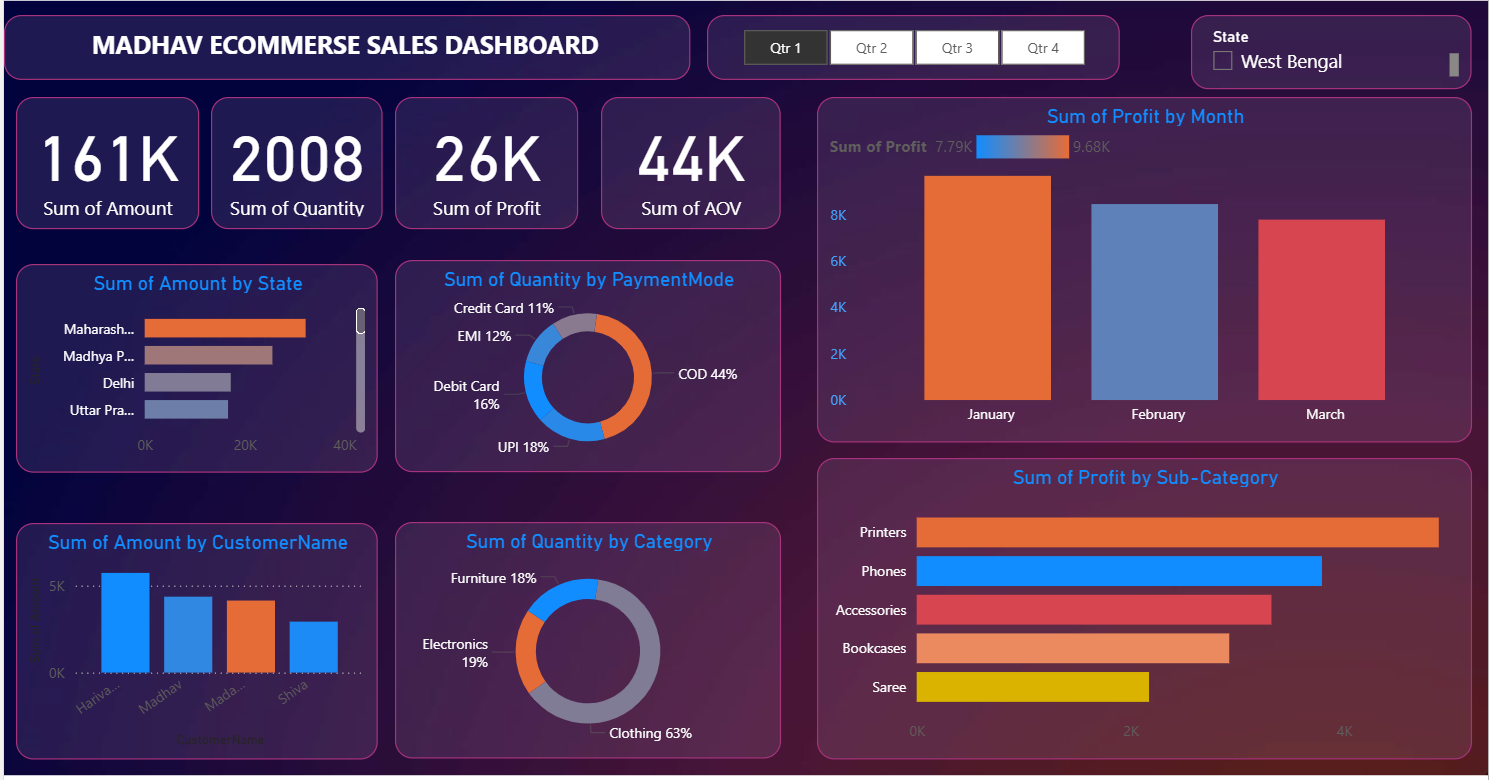

Layout of this report page (visuals, bound fields, positions):
{"tool":"powerbi","page":{"name":"Page 1","canvas":[1280,720],"ordinal":0},"visuals":[{"type":"textbox","box":[0,36.3,592.1,56.3],"z":0},{"type":"columnChart","fields":{"Y":["Details.Profit"],"Category":["Orders (1).Order Date.Variation.Date Hierarchy.Month"]},"box":[701,107.1,564.6,297.7],"z":1000},{"type":"barChart","fields":{"Category":["Details.Sub-Category"],"Y":["Details.Profit"]},"box":[701,418,564.6,259.6],"z":2000},{"type":"donutChart","fields":{"Category":["Details.Category"],"Y":["Details.Quantity"]},"box":[337.3,473.7,332.9,203.9],"z":3000},{"type":"donutChart","fields":{"Y":["Details.Quantity"],"Category":["Details.PaymentMode"]},"box":[337.3,247.9,332.9,183.3],"z":4000},{"type":"card","fields":{"Values":["Details.Amount"]},"box":[10.3,107.1,158.4,114.4],"z":5000},{"type":"card","fields":{"Values":["Details.Quantity"]},"box":[178.9,107.1,148.1,114.4],"z":6000},{"type":"card","fields":{"Values":["Details.Profit"]},"box":[337.3,107.1,158.4,114.4],"z":7000},{"type":"card","fields":{"Values":["Details.AOV"]},"box":[514.8,107.1,155.5,114.4],"z":8000},{"type":"barChart","fields":{"Category":["Orders (1).State"],"Y":["Details.Amount"]},"box":[10.3,250.8,312.4,180.4],"z":9000},{"type":"columnChart","fields":{"Category":["Orders (1).CustomerName"],"Y":["Details.Amount"]},"box":[10,474,312,204],"z":10000},{"type":"slicer","fields":{"Values":["Orders (1).Order Date.Variation.Date Hierarchy.Quarter"]},"box":[606.6,36.3,356,56.3],"z":11000},{"type":"slicer","fields":{"Values":["Orders (1).State"]},"box":[1024.1,36.4,242.1,63.8],"z":12000}]}

Visuals, with their boxes on the page's 1280x720 design canvas (x1, y1, x2, y2). These are canvas units, not pixel positions in the 1493x780 screenshot, which may show the page scaled, cropped or inside an application window:
textbox: x1=0, y1=36, x2=592, y2=93
columnChart - Details.Profit x Orders (1).Order Date.Variation.Date Hierarchy.Month: x1=701, y1=107, x2=1266, y2=405
barChart - Details.Sub-Category x Details.Profit: x1=701, y1=418, x2=1266, y2=678
donutChart - Details.Category x Details.Quantity: x1=337, y1=474, x2=670, y2=678
donutChart - Details.Quantity x Details.PaymentMode: x1=337, y1=248, x2=670, y2=431
card - Details.Amount: x1=10, y1=107, x2=169, y2=222
card - Details.Quantity: x1=179, y1=107, x2=327, y2=222
card - Details.Profit: x1=337, y1=107, x2=496, y2=222
card - Details.AOV: x1=515, y1=107, x2=670, y2=222
barChart - Orders (1).State x Details.Amount: x1=10, y1=251, x2=323, y2=431
columnChart - Orders (1).CustomerName x Details.Amount: x1=10, y1=474, x2=322, y2=678
slicer - Orders (1).Order Date.Variation.Date Hierarchy.Quarter: x1=607, y1=36, x2=963, y2=93
slicer - Orders (1).State: x1=1024, y1=36, x2=1266, y2=100
